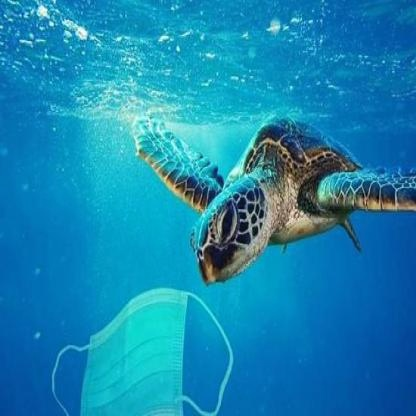Mask: (27, 280, 261, 415)
